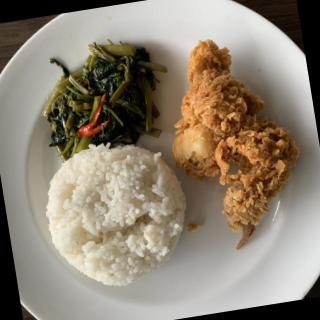Nasi: (40, 135, 201, 297)
